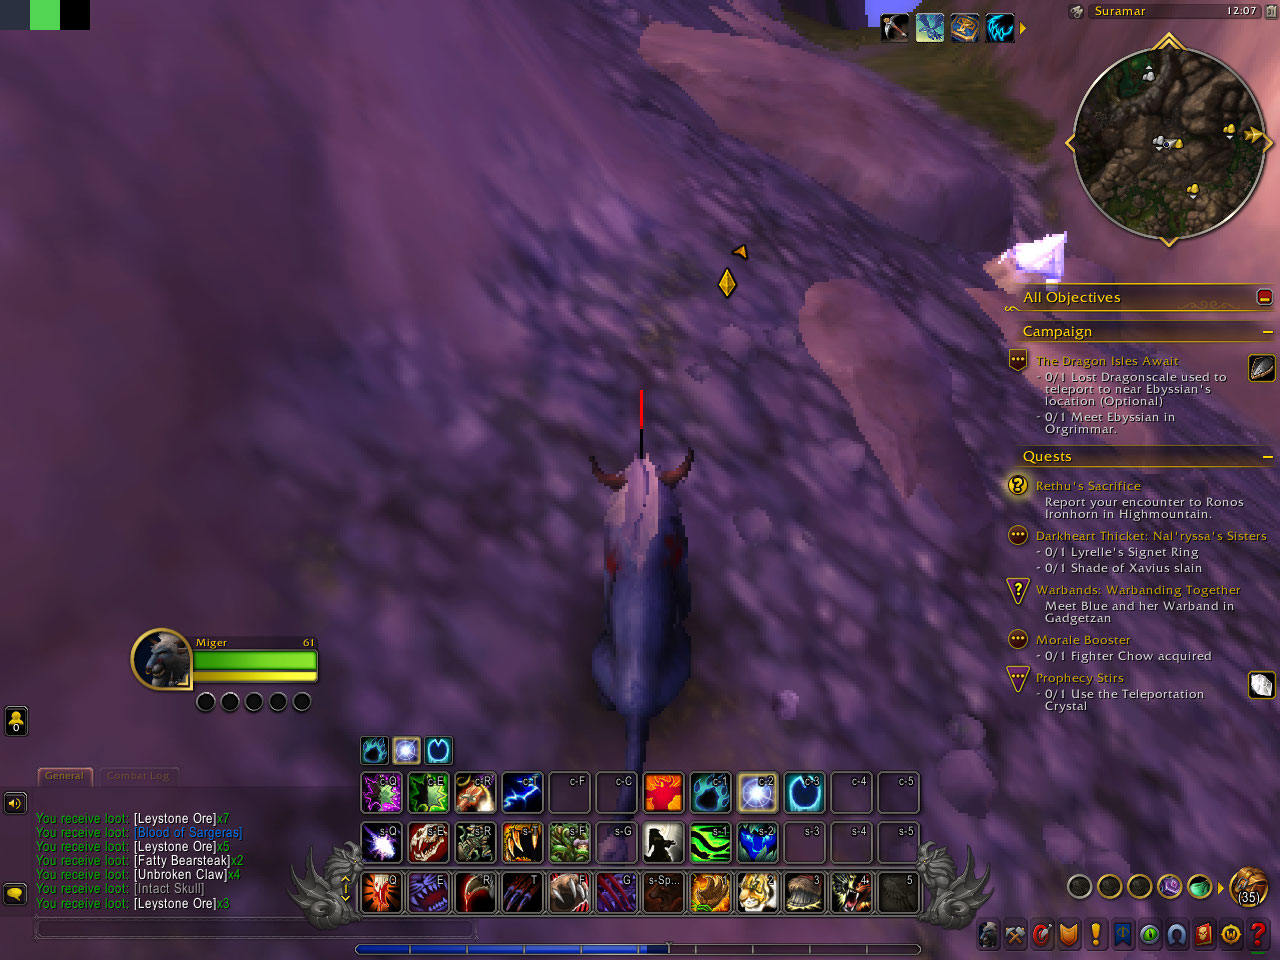ore: (982, 232, 1072, 302)
